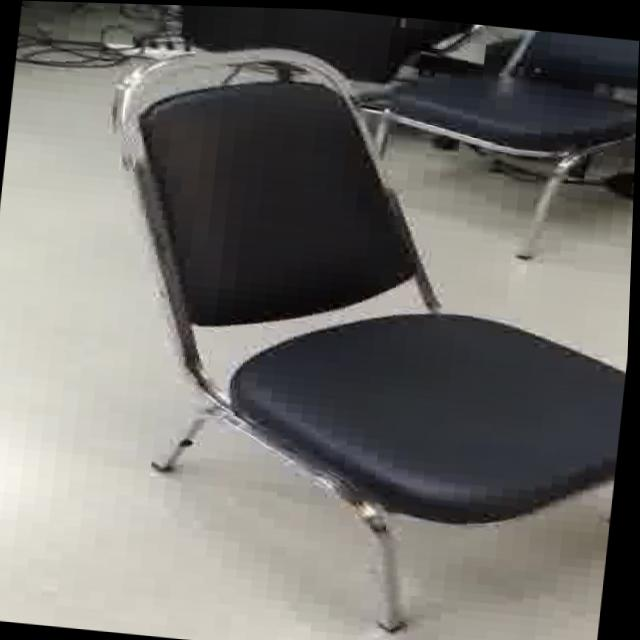chair: (17, 5, 640, 640)
